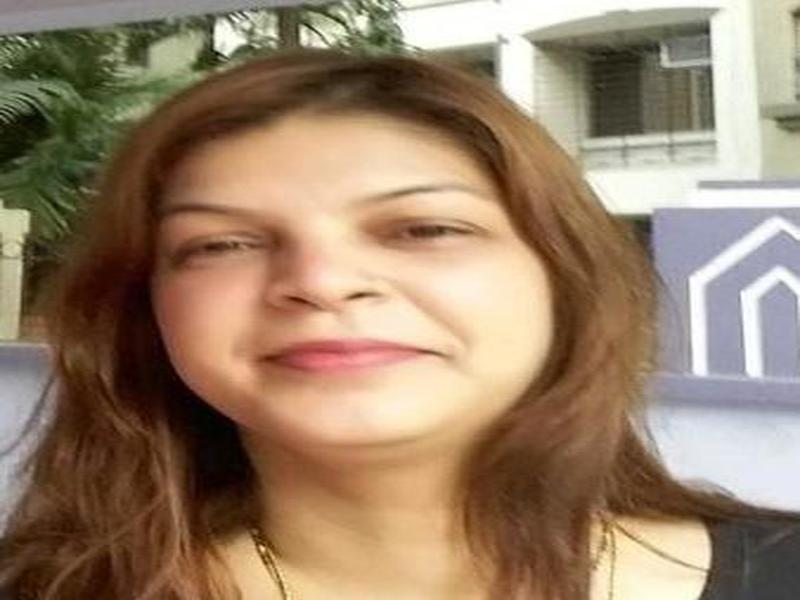without_mask: (155, 138, 517, 451)
